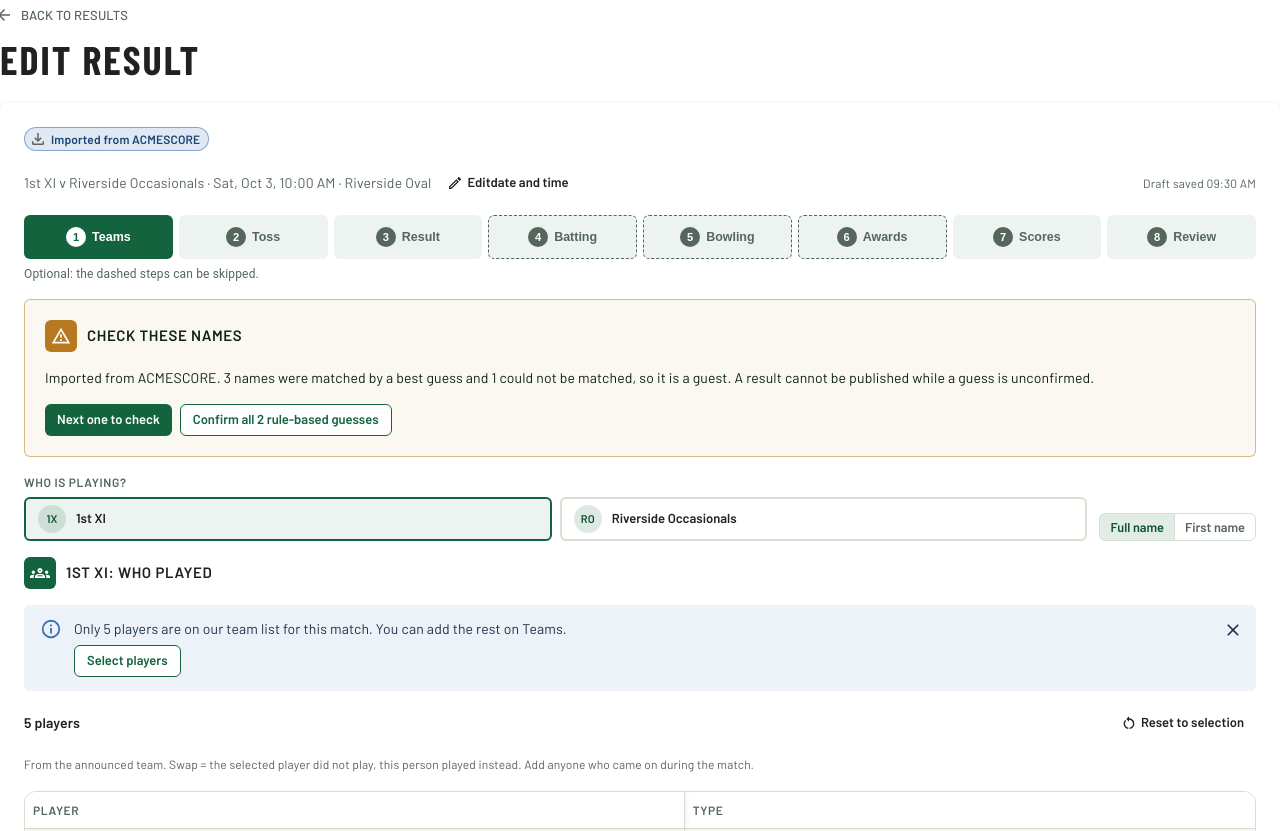
an imported draft in the capture wizard › the Teams banner › offers Confirm all for the rule-based guesses only (two of the three), behind a confirm
Expected: the heading "Edit result" is shown, [0,35,200,83]
Expected: the element with test id "import-guess-banner" is shown, [24,299,1256,457]
Click the button "Confirm all 2 rule-based guesses" at (286, 420), box [180,404,392,436]
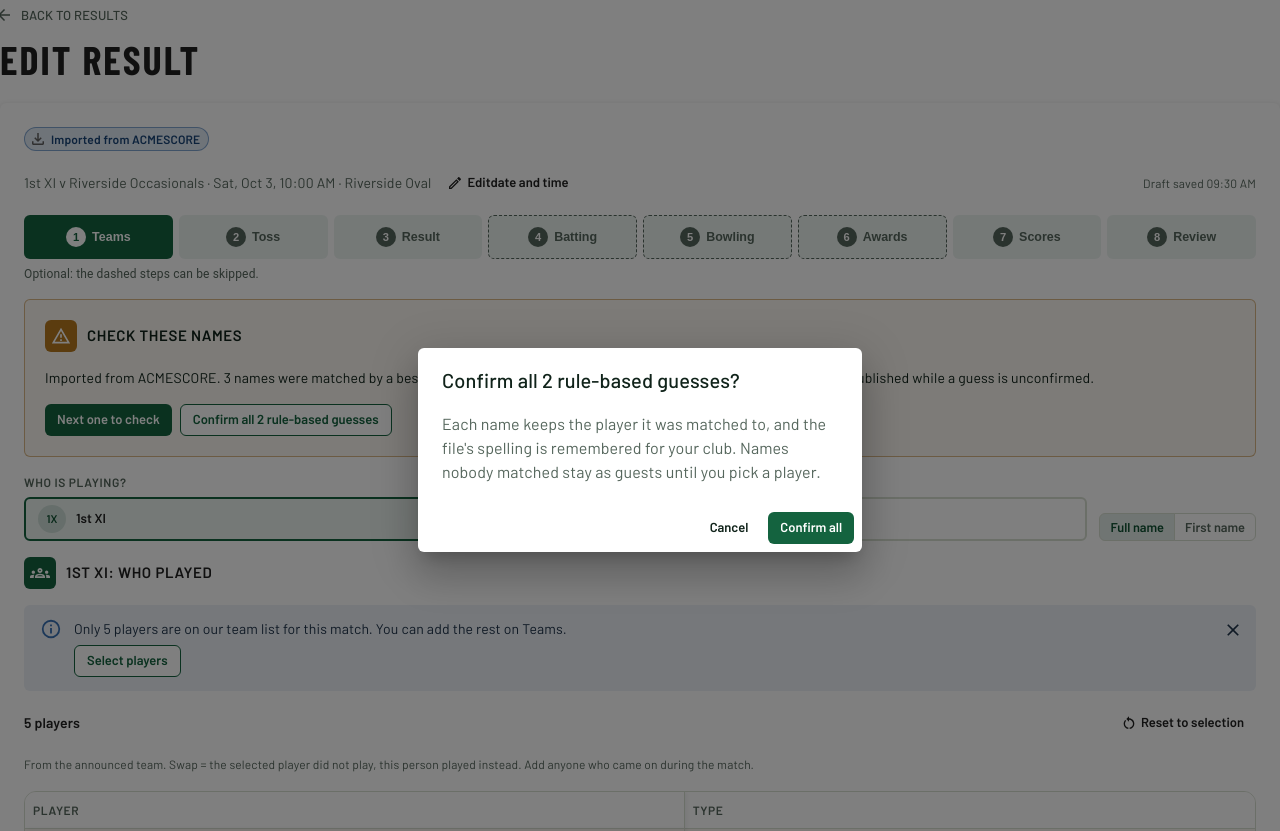
Result: the heading "Confirm all 2 rule-based guesses?" is shown at [442,368,740,392]
Click the button "Confirm all" at (811, 528), box [768,512,854,544]
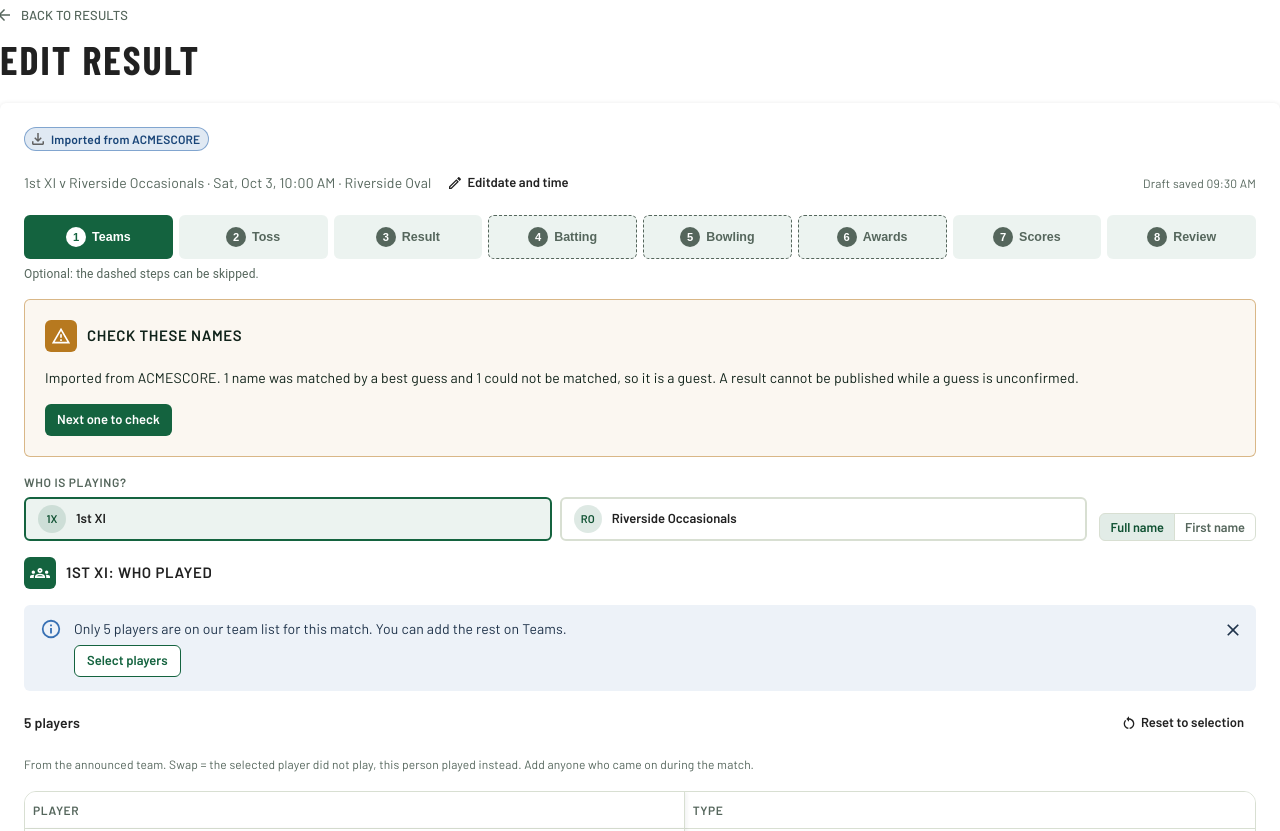
Result: the dialog is gone
Result: the button "Confirm all" is gone
Result: the element with test id "import-guess-banner" shows "1 name was matched by a best guess and 1 could not be matched" at [45,369,1079,386]
